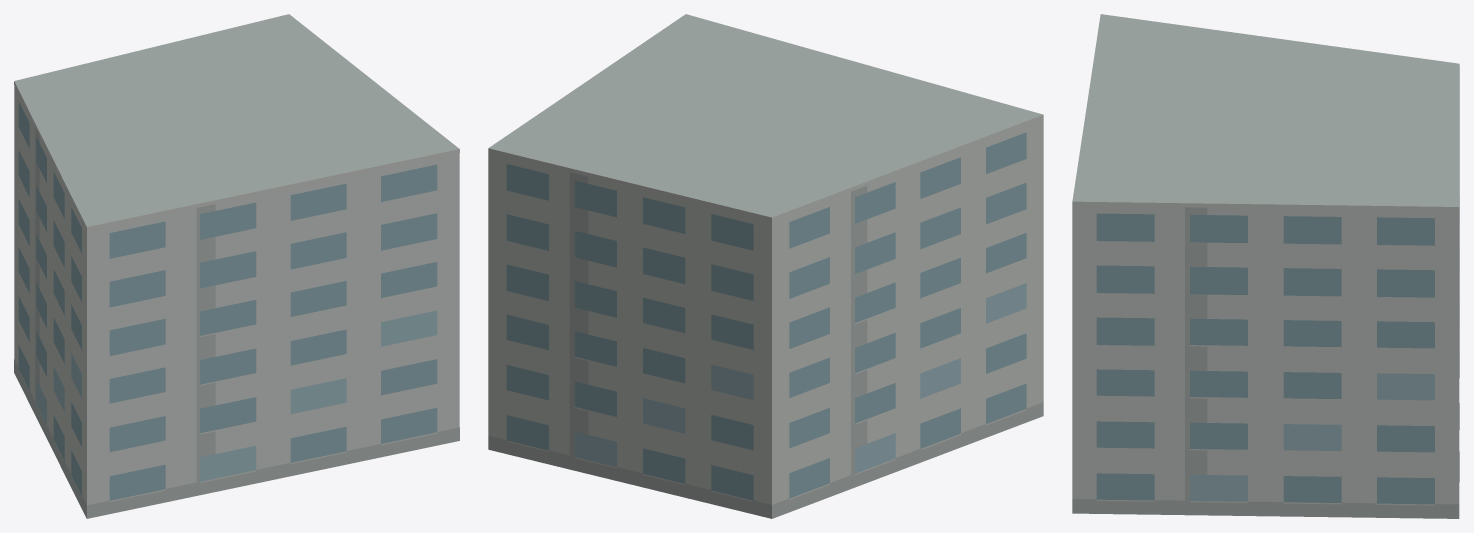
The model's file is survey-upis-32645495.glb.
3 views of the same model, side by side, from view 1: azimuth 30°, elevation 25°; view 2: azimuth 150°, elevation 25°; view 3: azimuth 270°, elevation 25° (orthographic). The views are drawn at different scales.
Parts seen in each view (by area): view 1: survey-upis-32645495.tmp; view 2: survey-upis-32645495.tmp; view 3: survey-upis-32645495.tmp.
Part boxes in pixels (x1,y1,x2,y2): survey-upis-32645495.tmp: [14, 14, 459, 518]; survey-upis-32645495.tmp: [488, 14, 1043, 518]; survey-upis-32645495.tmp: [1072, 14, 1459, 518].
Size of the model in its own units: 24.3 by 18.3 by 20.61.
